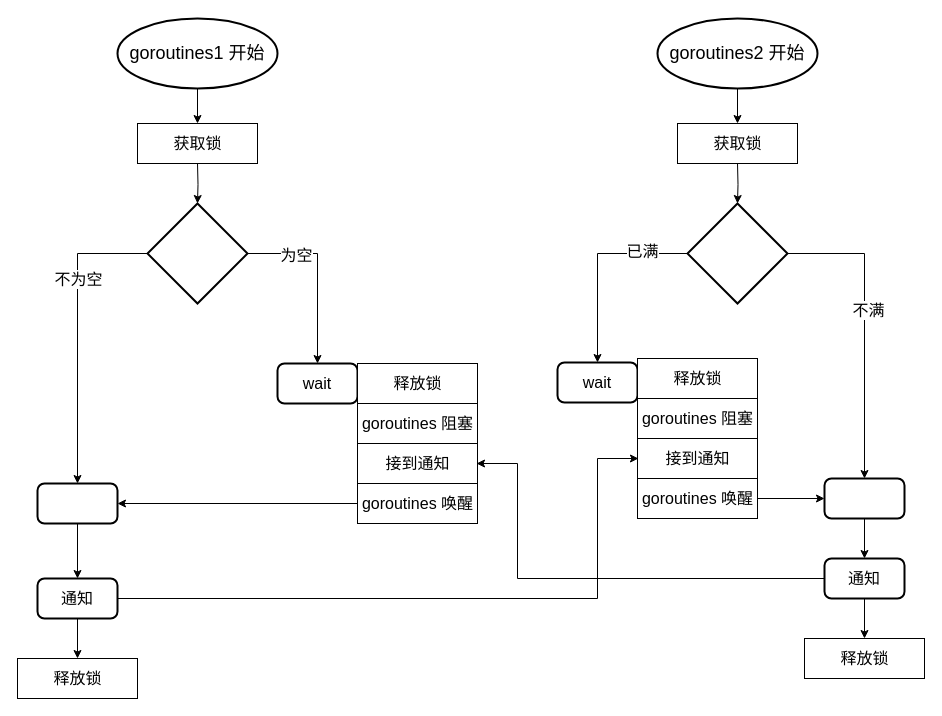
The diagram is 942 pixels wide and 716 high, and some of its shapes have lost their labels. Here are the shapes that lost their labels. From the top down, the centre of each, then its label:
the point at 197,253: 是否为空
the point at 737,253: 是否为满
the point at 77,503: pop
the point at 864,498: add
